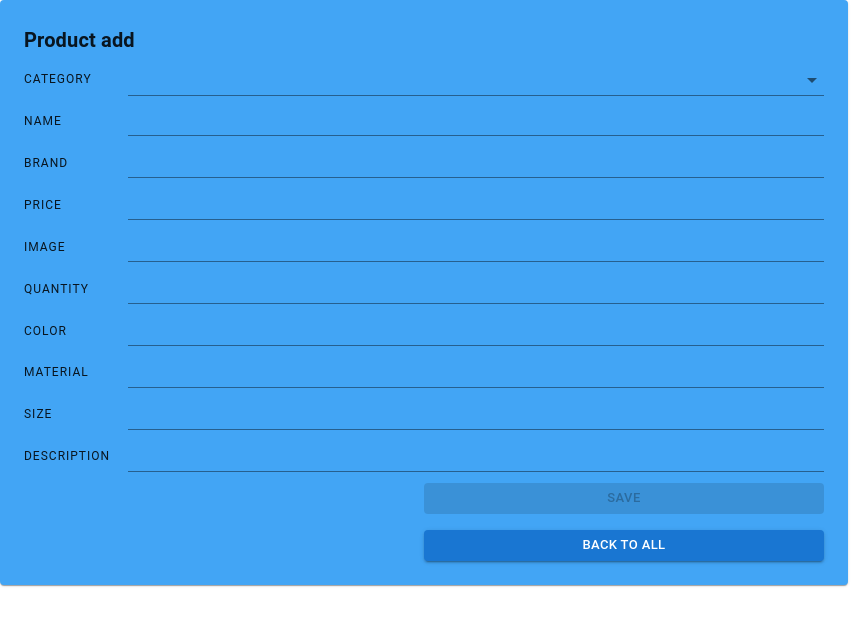
it: ProductEditForm › should render error text in case wrong data typed
Type "string" into the field next to "image".
click(476, 248); type("string")  # box [128,233,824,262]
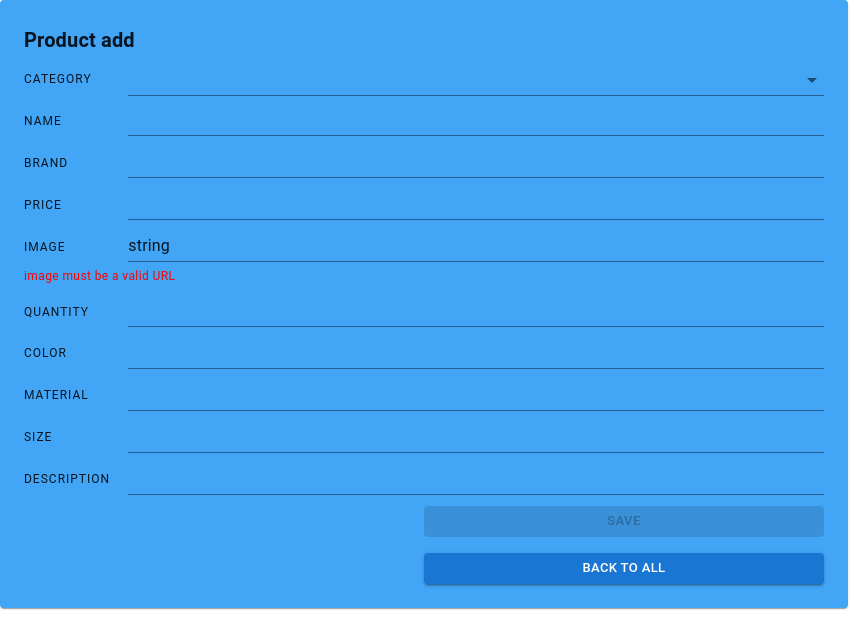
Result: the text "image must be a valid URL" is shown at [24,269,175,283]
